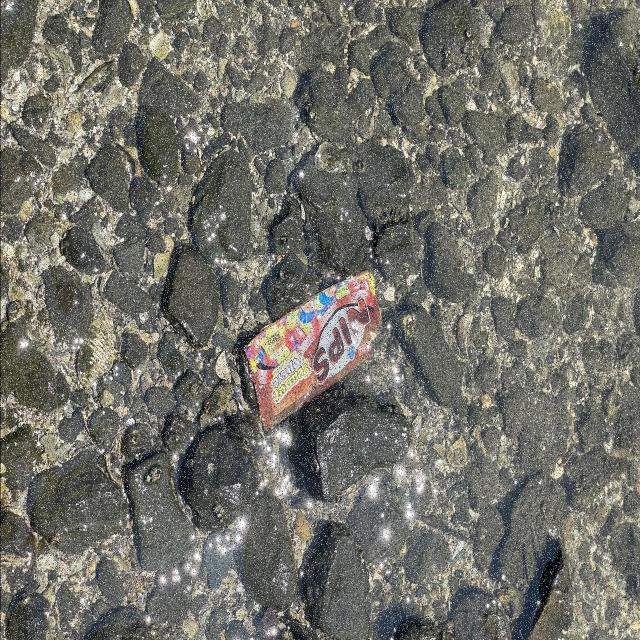plastic_waste: (248, 270, 385, 431)
